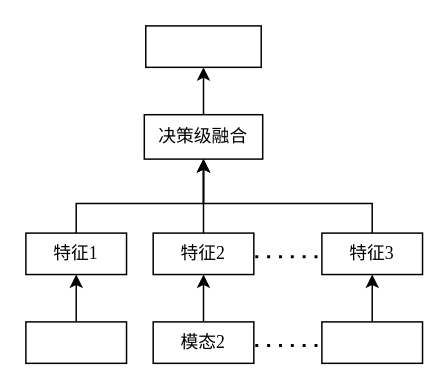
This 448x389 diagram has some shape labels left out. Each missing label, with the box of its shape:
模态 1: (24, 320, 127, 363)
模态 n: (320, 320, 423, 363)
视觉任务: (144, 24, 261, 67)
